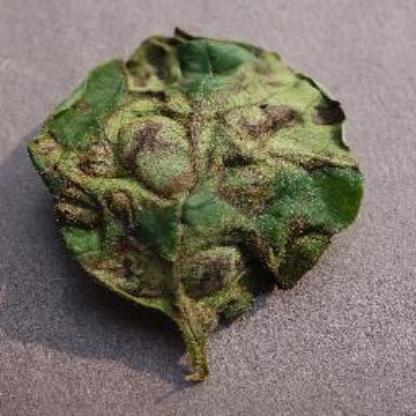Late-Blight: (26, 22, 372, 384)
